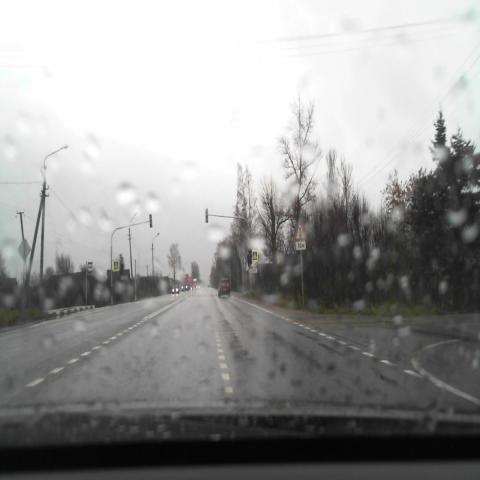1_8: (295, 221, 306, 240)
